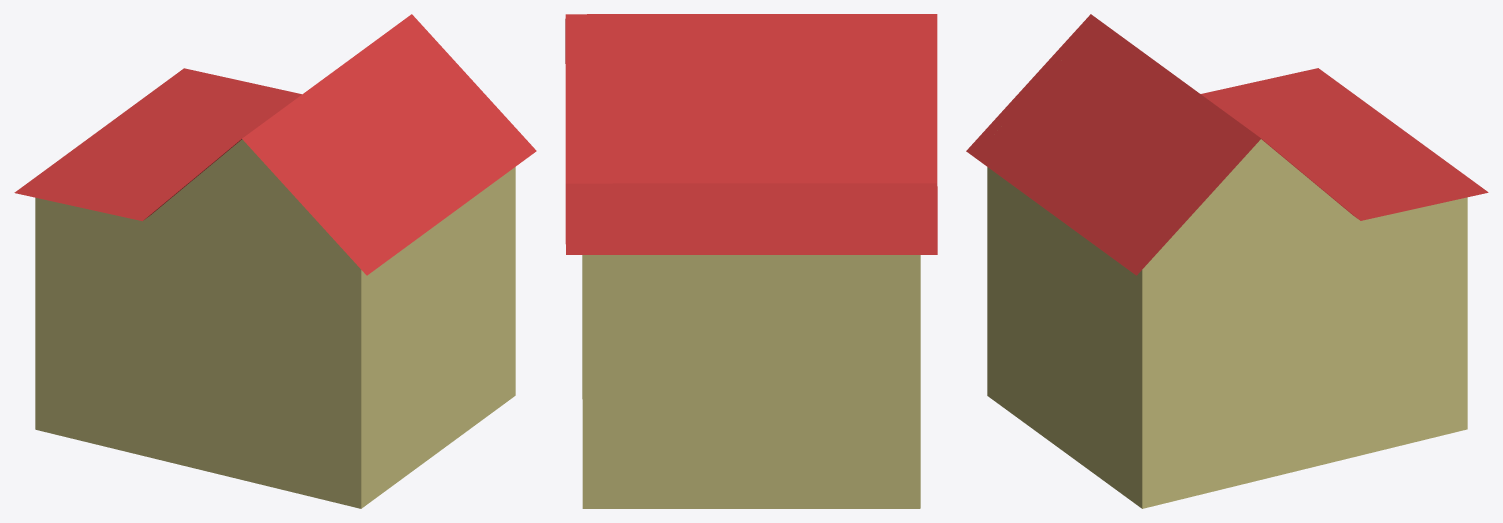
The picture shows the model from 3 angles, left to right: view 1: azimuth 30°, elevation 25°; view 2: azimuth 150°, elevation 25°; view 3: azimuth 270°, elevation 25°; orthographic projection. The views are drawn at different scales.
Bounding box in the file's own units: 16.07 × 16.85 × 12.4.
